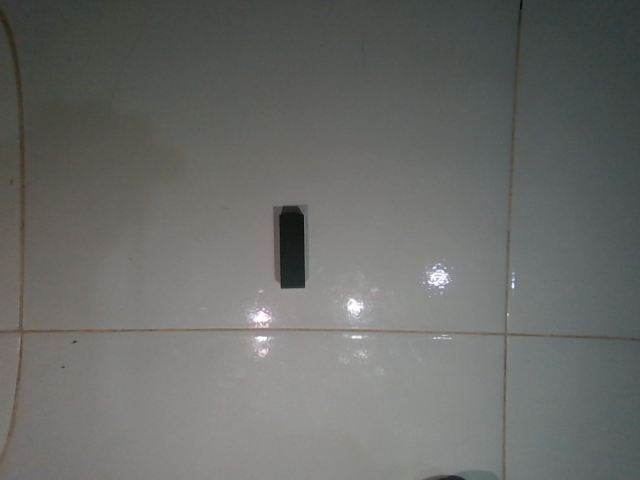Balok-Hitam: (279, 205, 305, 287)
